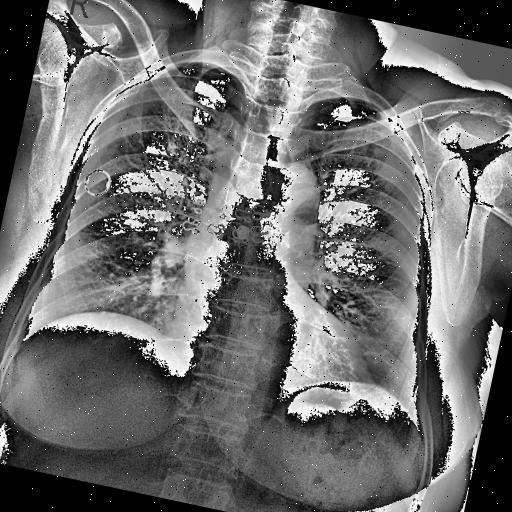0- Aortic enlargement: (238, 156, 328, 234), (250, 156, 328, 242), (248, 161, 328, 241)
3- Cardiomegaly: (160, 280, 380, 390), (158, 303, 380, 398)
